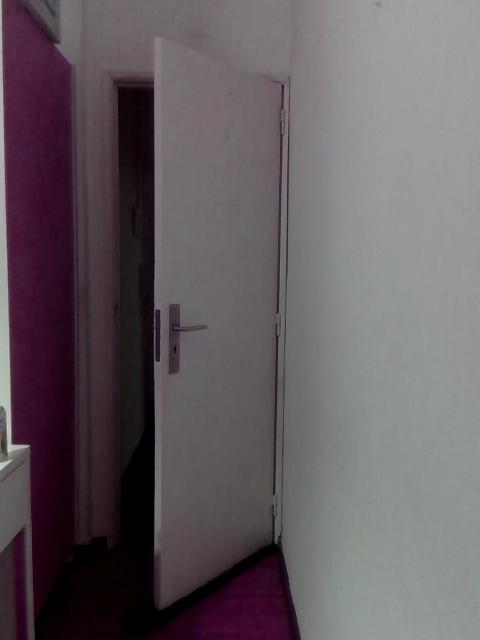semi_door: (84, 33, 291, 615)
